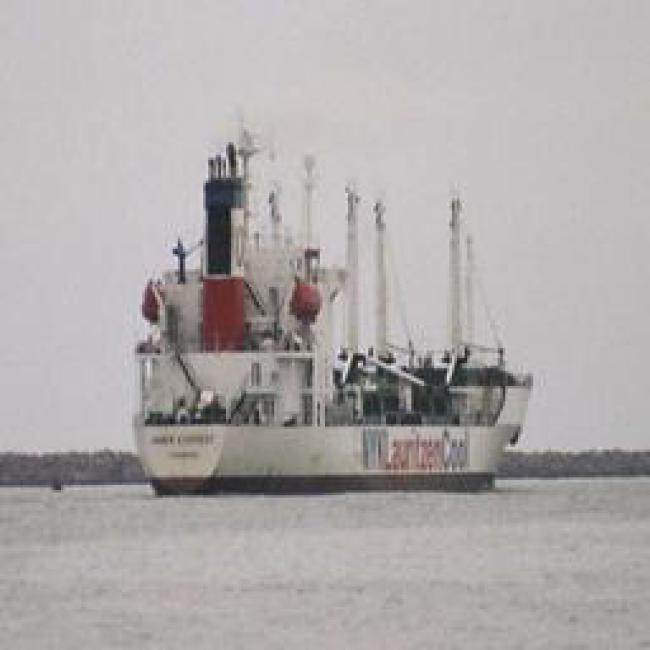Ship: (96, 158, 537, 486)
